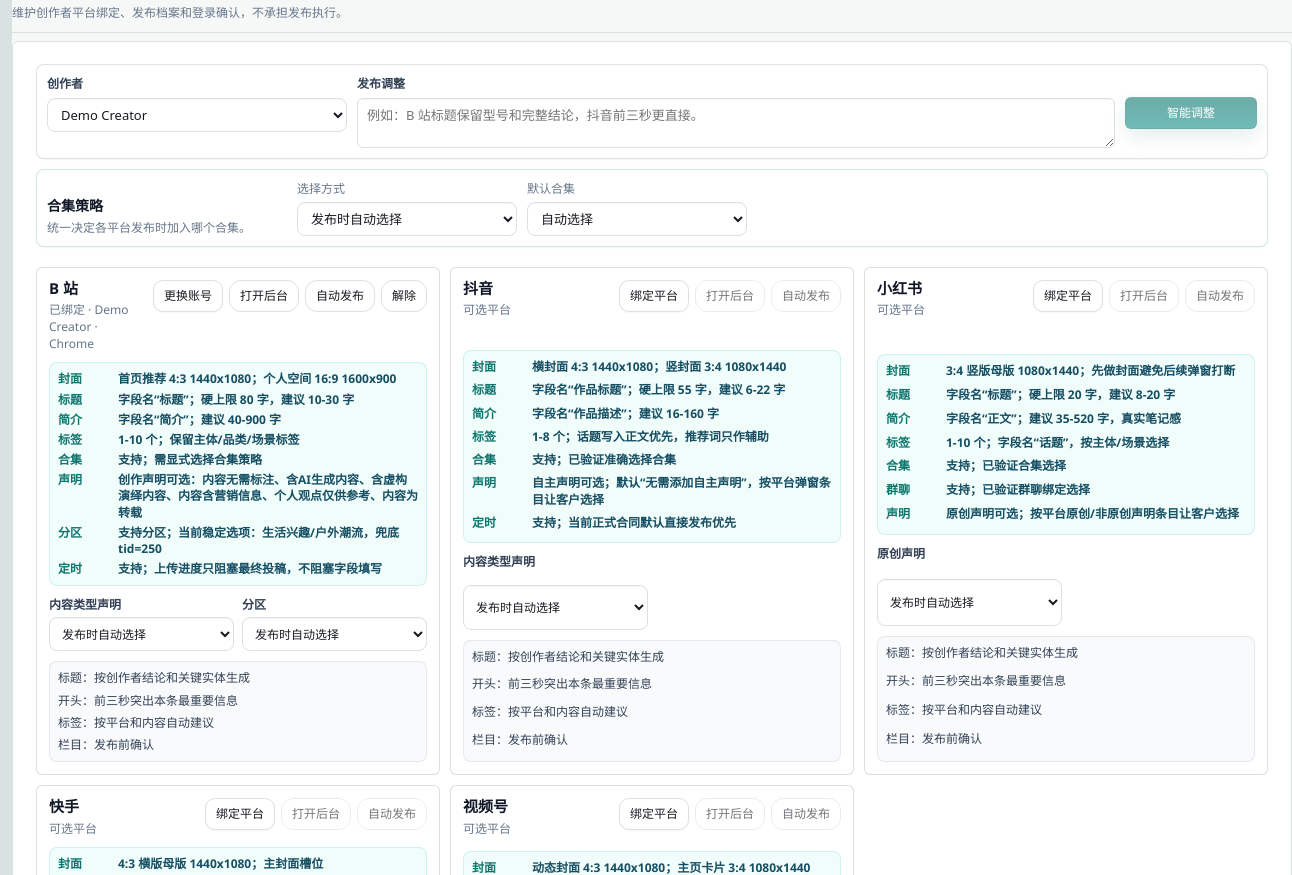
Test: PublicationManagementPage platform binding › opens the bound platform dashboard for account confirmation
The width and height of the screenshot is (1292, 875).
Click the button "打开后台" in the row of "已绑定 · Demo Creator · Chrome".
click(264, 296)  # box [229,280,299,312]
(page scrolled)
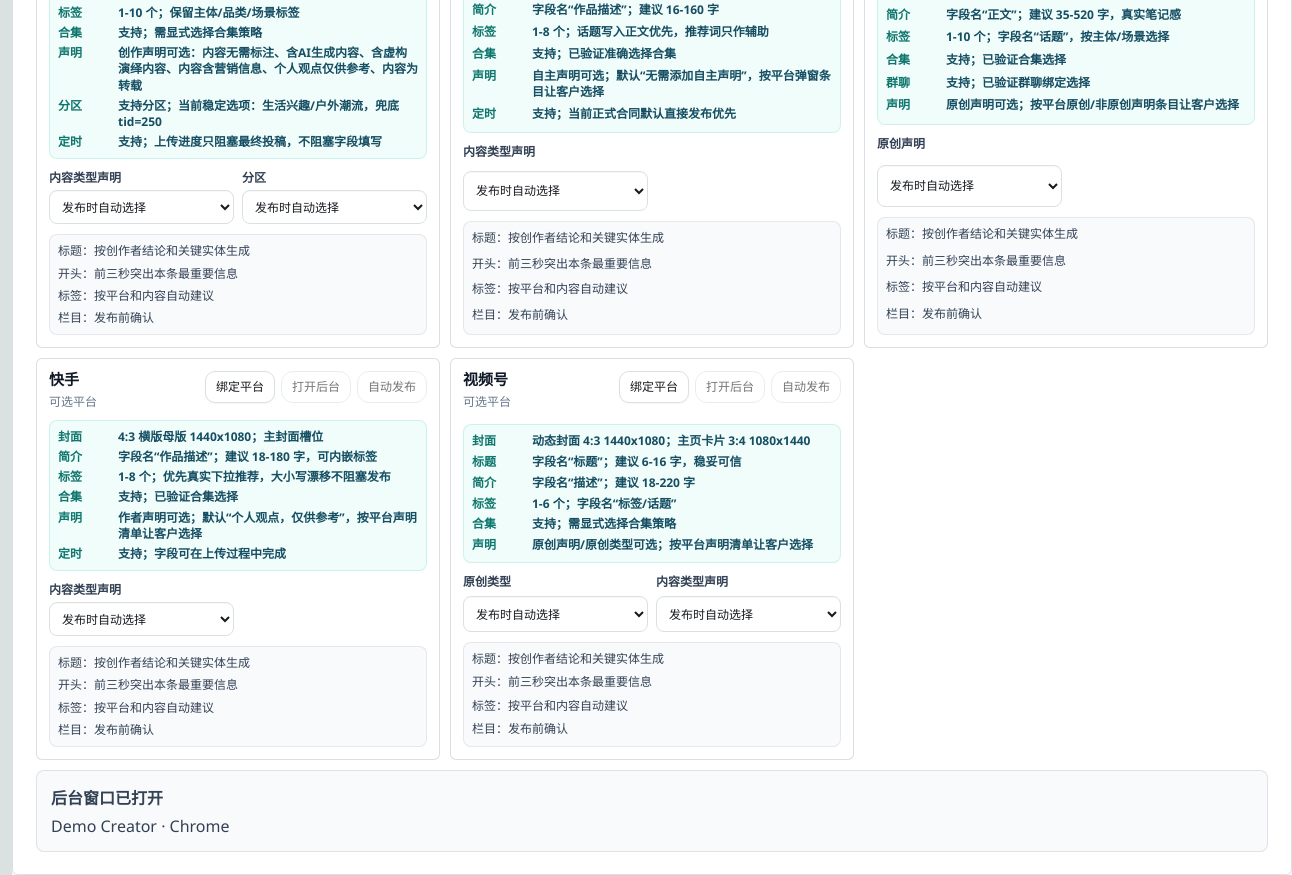
Now the text "后台窗口已打开" is shown, box [51,787,163,809]
